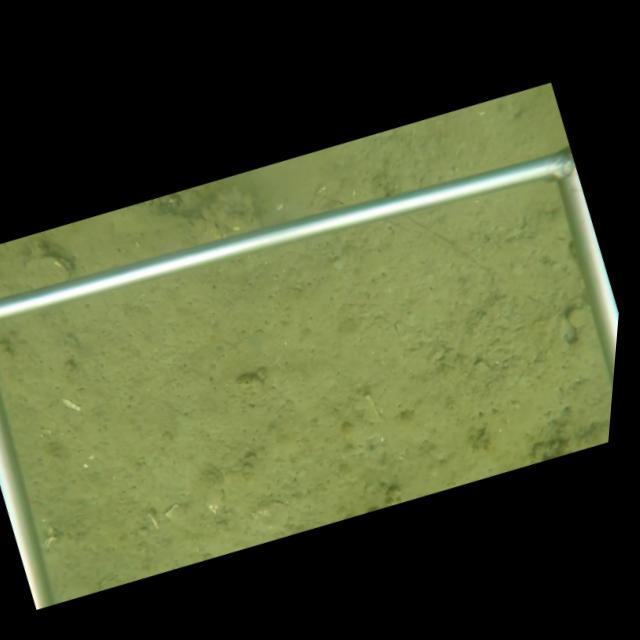Oyster-Closed: (18, 254, 76, 291)
